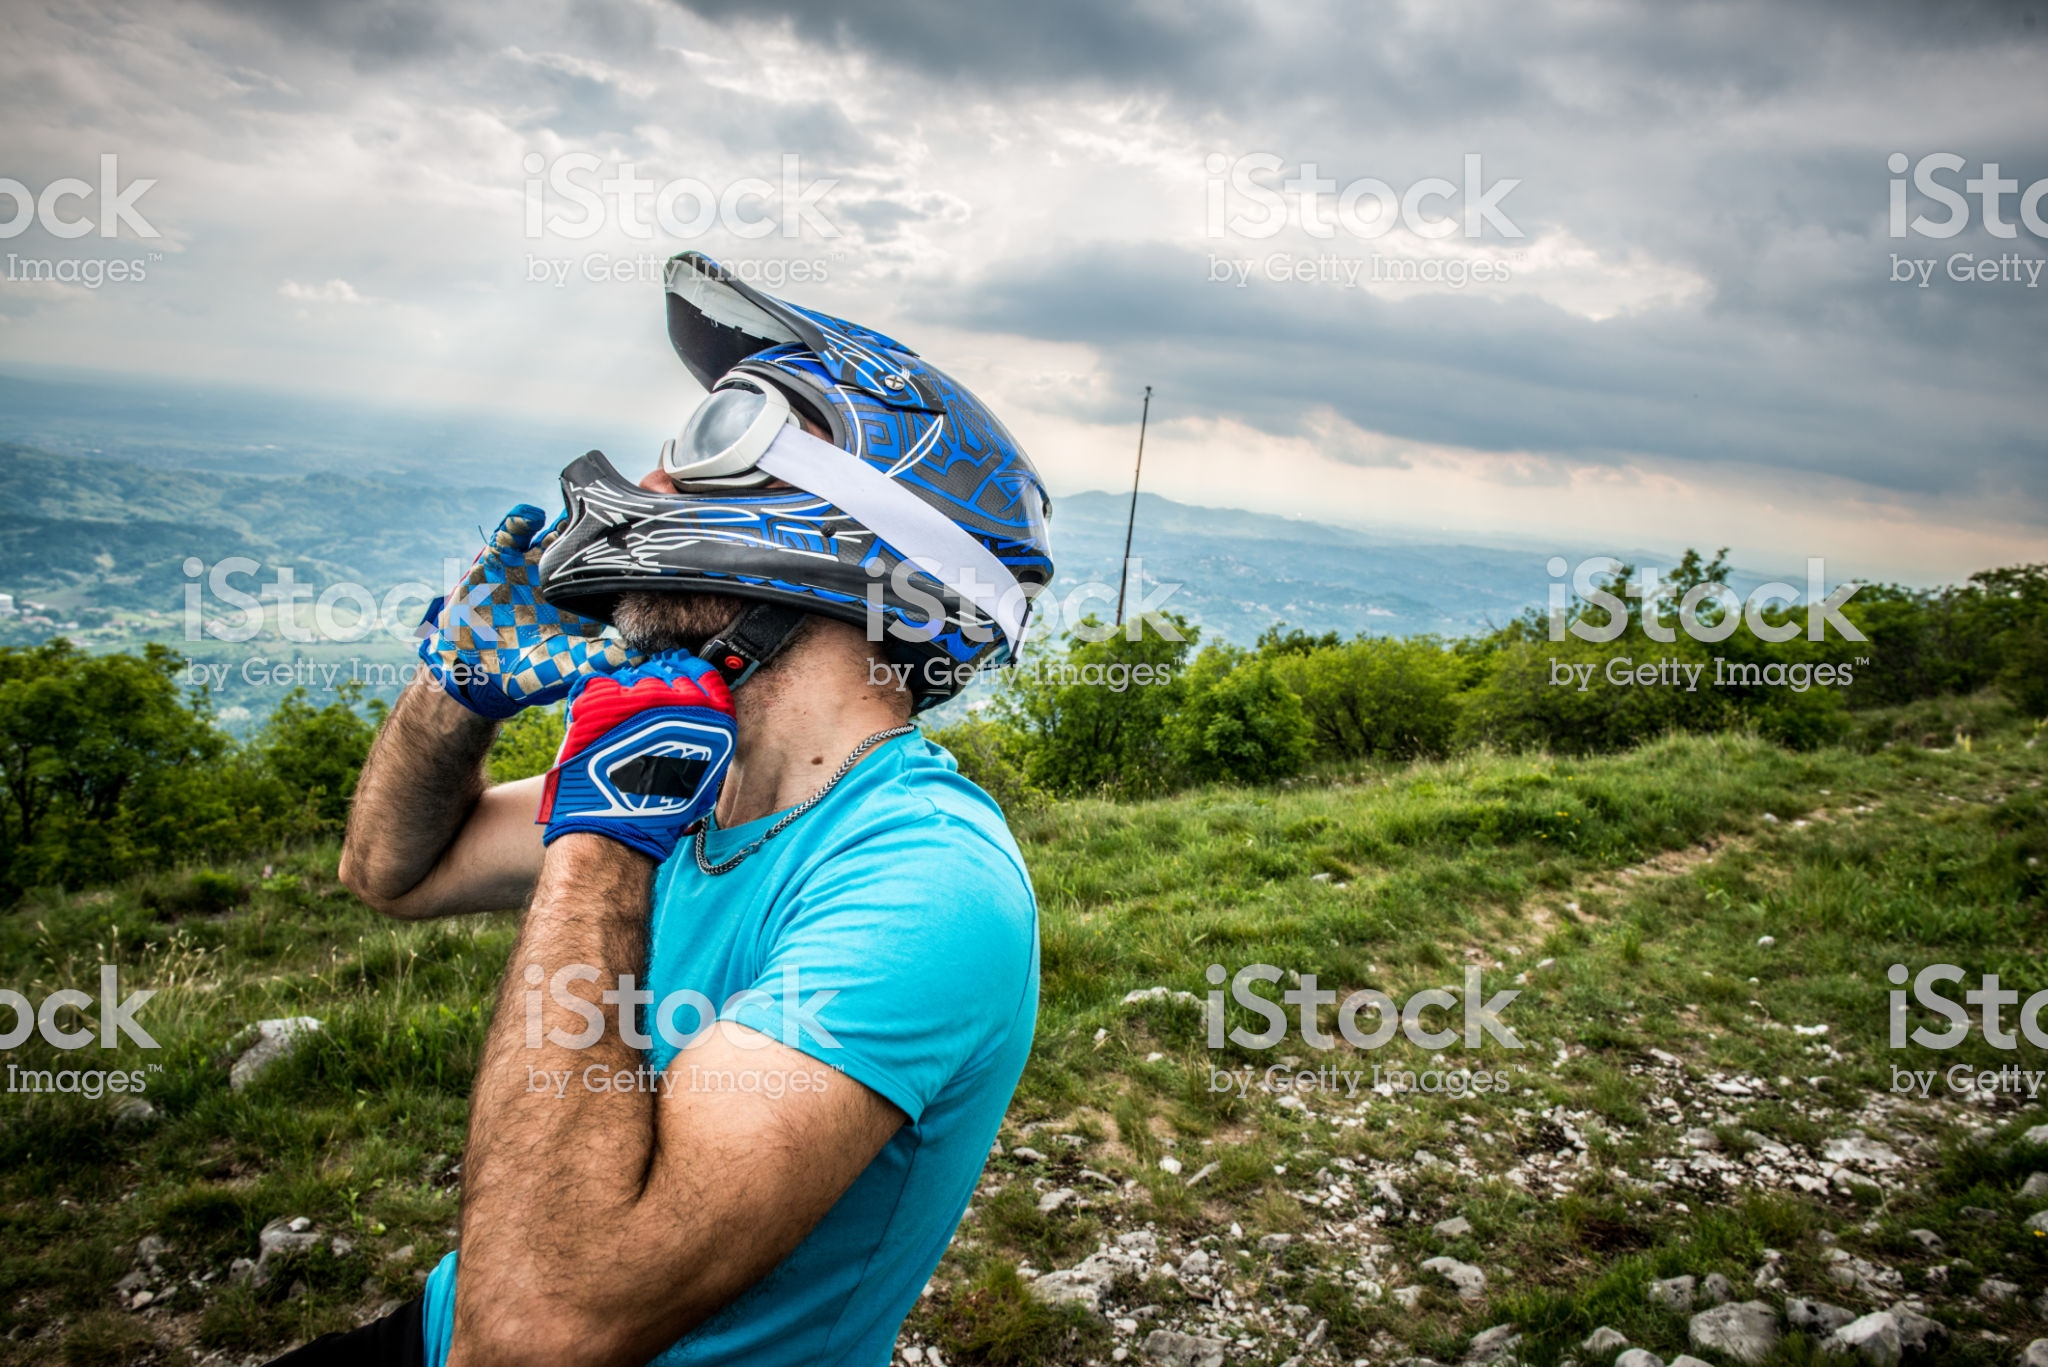helmet: (499, 287, 1119, 712)
